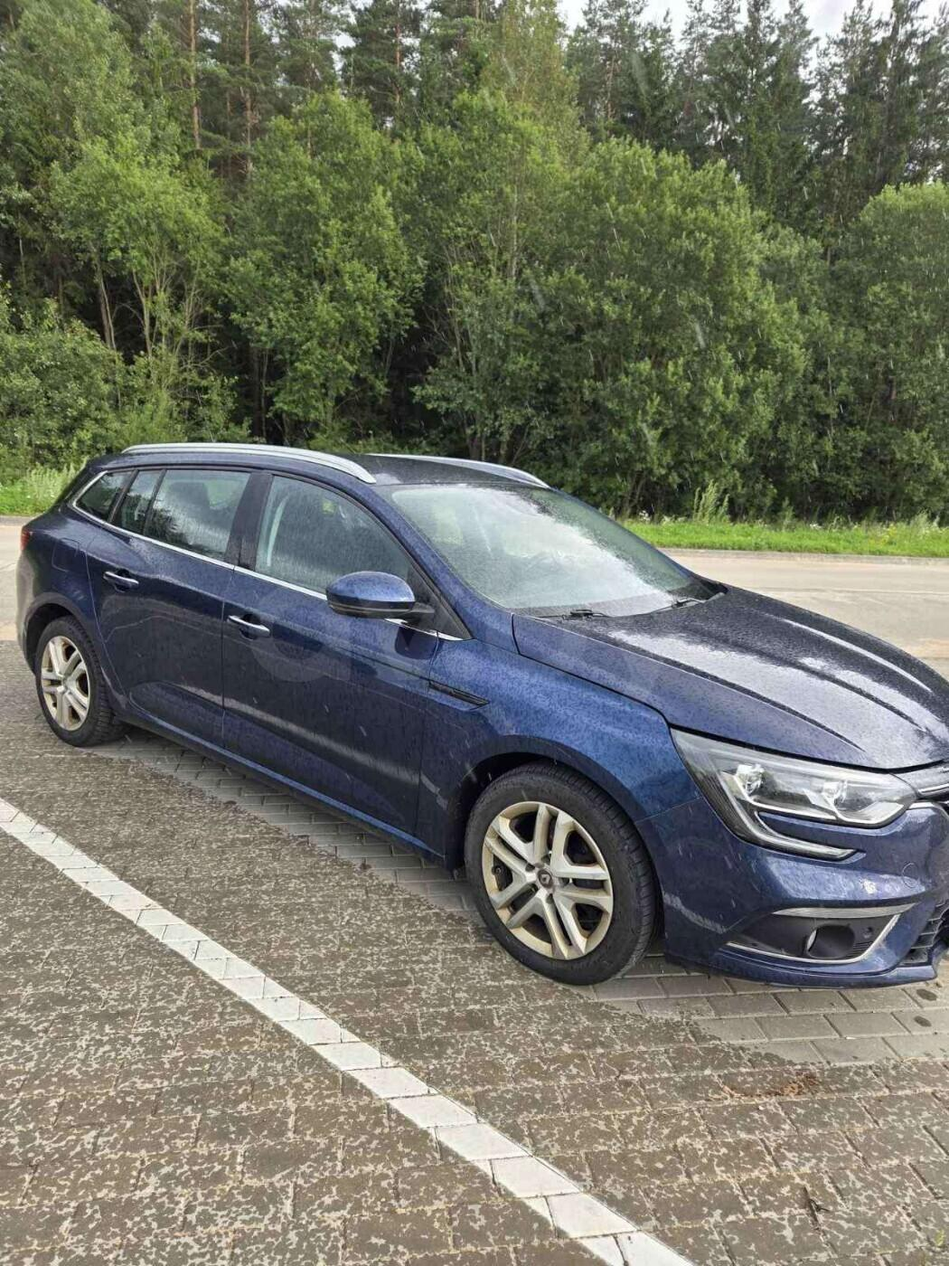Megane_2016-2020: (16, 436, 949, 1007)
